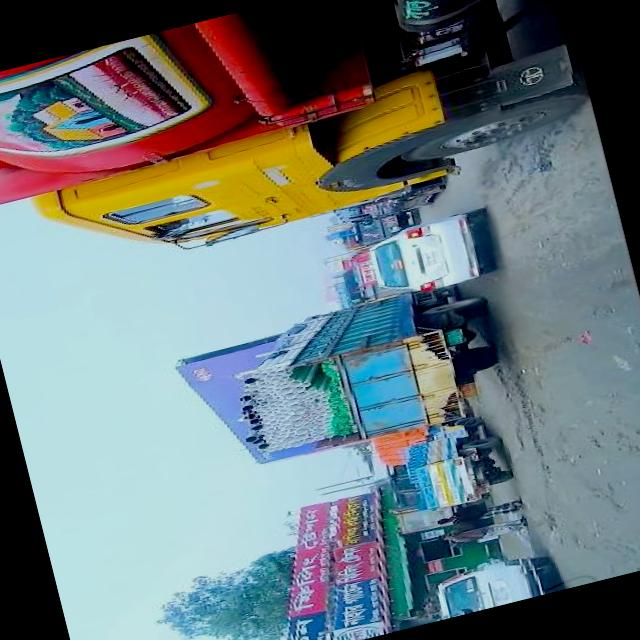car: (368, 206, 498, 302)
truck: (0, 0, 596, 301), (220, 277, 519, 469), (393, 409, 513, 516), (427, 548, 551, 620), (333, 182, 443, 230)
